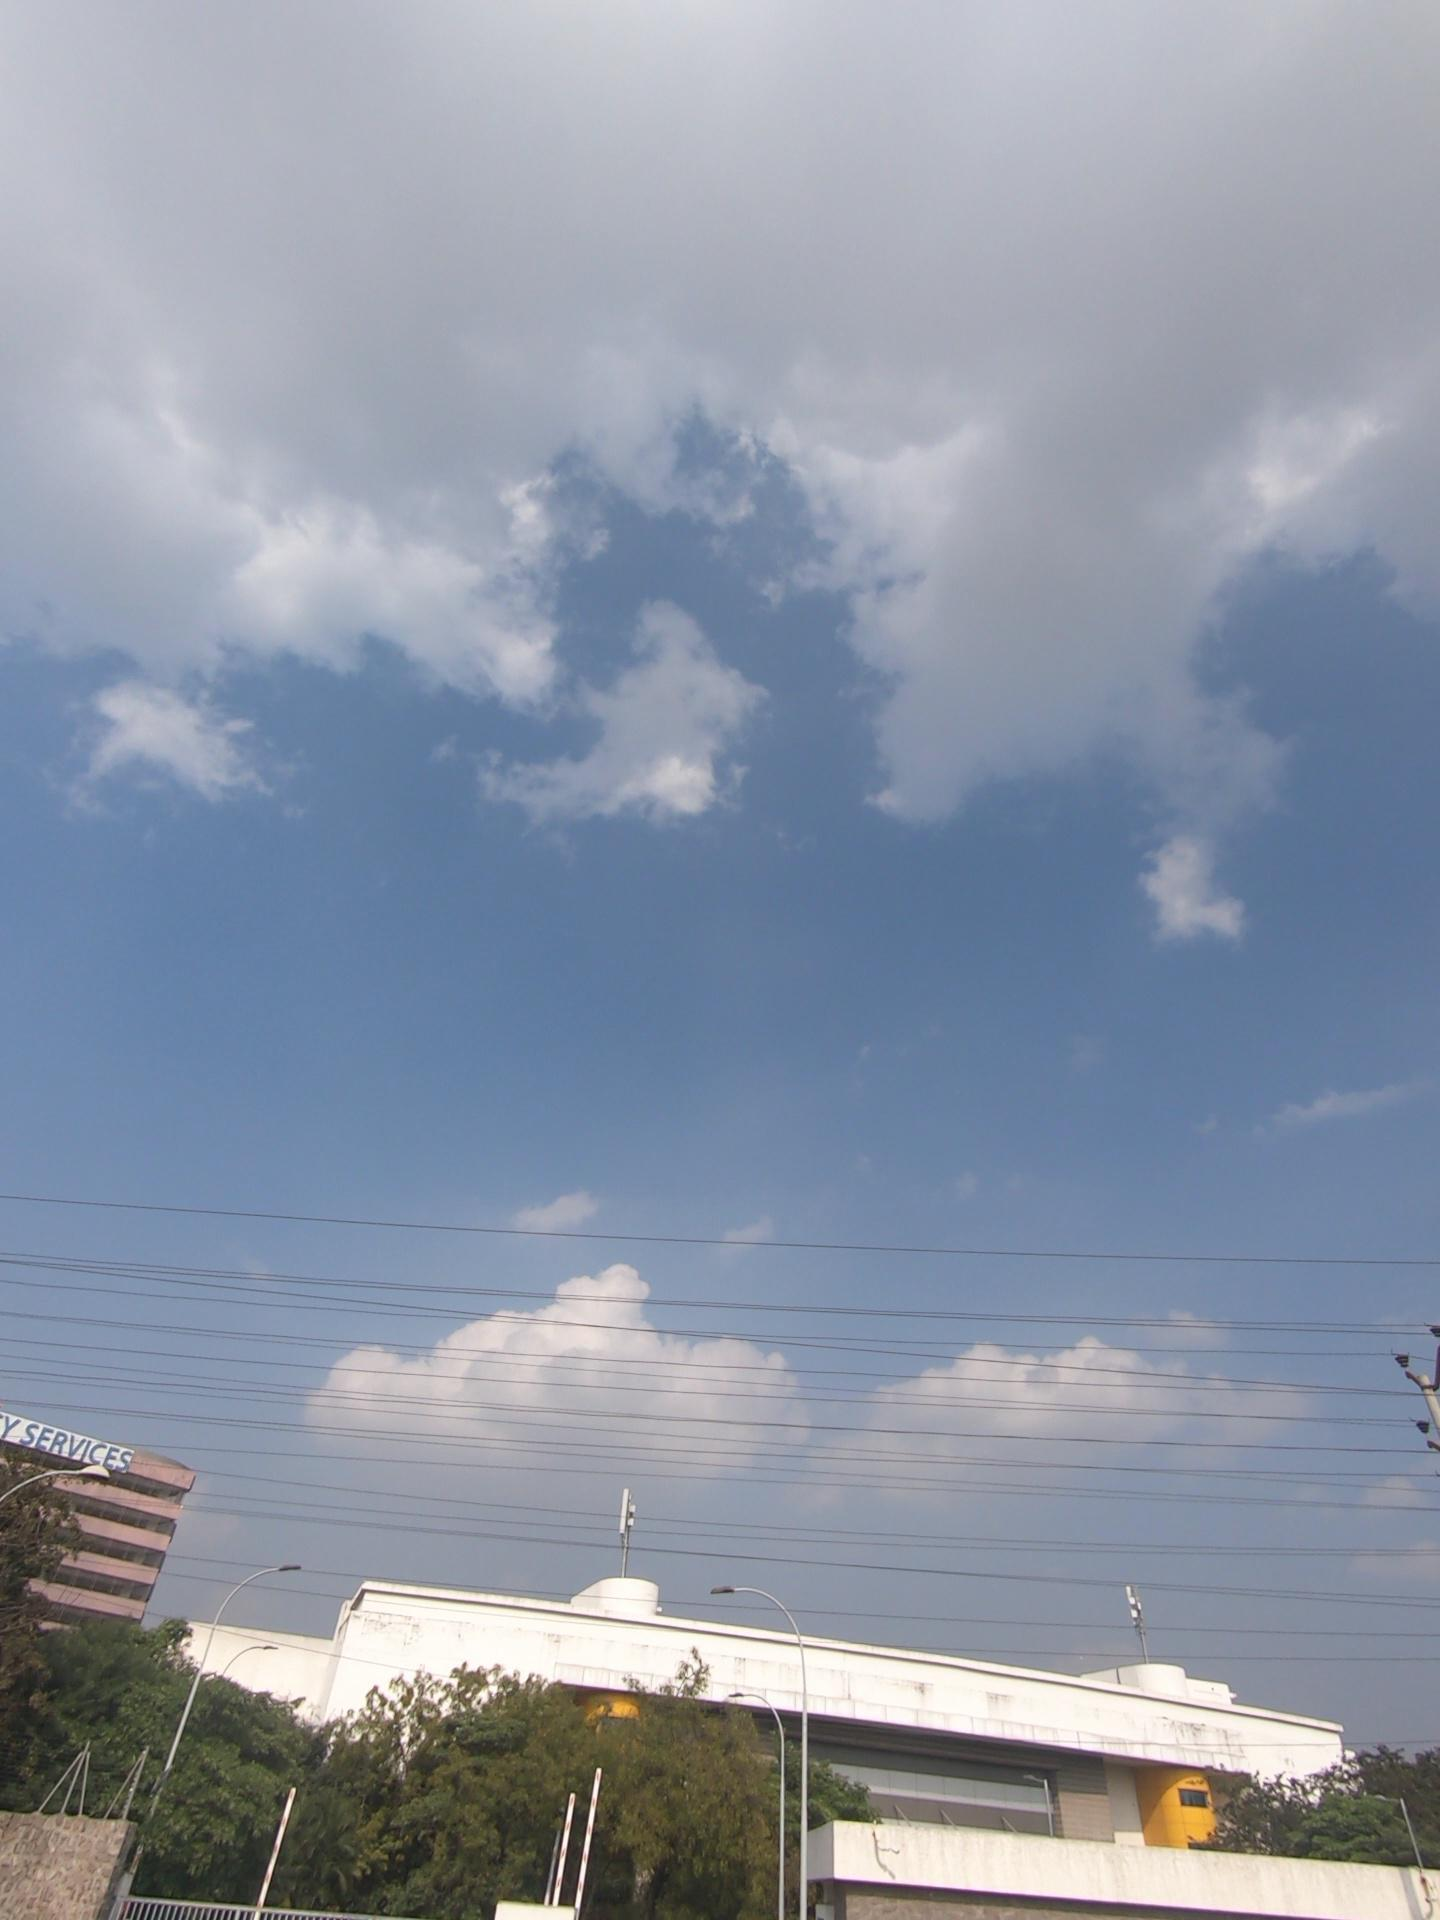off: (325, 1681, 728, 1908)
